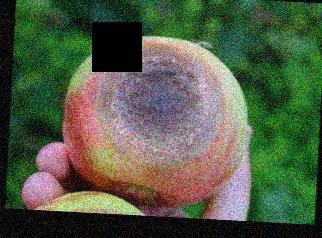rotten apple: (54, 27, 251, 207)
